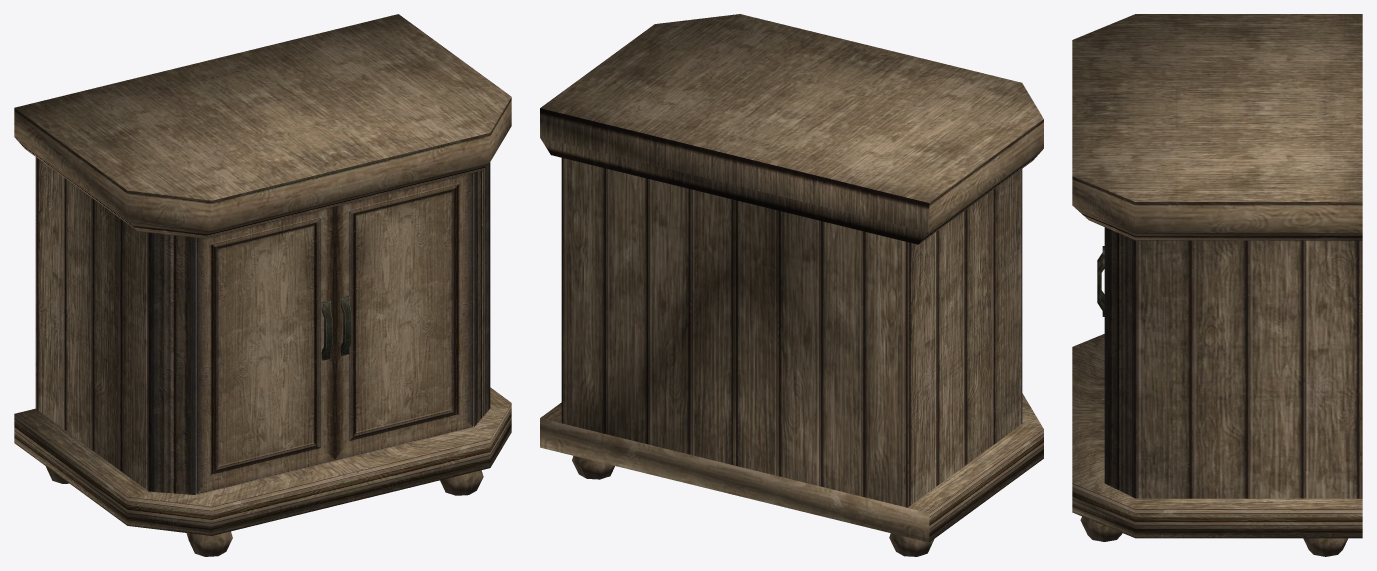
File: GS_CITY_CUPBOARD_YELLOW_01_2_KOZA.glb
3 renders of one model, left to right at view 1: azimuth 30°, elevation 25°; view 2: azimuth 150°, elevation 25°; view 3: azimuth 270°, elevation 25°, orthographic.
Parts seen in each view (by area): view 1: Mesh; view 2: Mesh; view 3: Mesh.
Boxes of the visible parts, <box> form: Mesh: <box>14,14,511,556</box>; Mesh: <box>540,14,1043,556</box>; Mesh: <box>1072,14,1362,556</box>.
Size of the model in its own units: 1.38 by 1.25 by 0.9.
4 materials, 4 textured.
